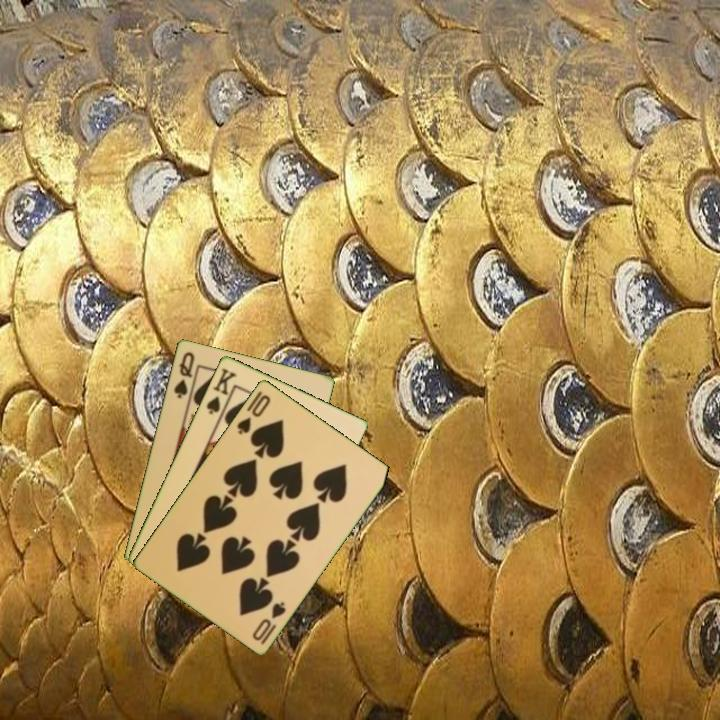10s: (249, 597, 289, 647), (233, 391, 273, 437)
Ks: (202, 364, 239, 420)
Qs: (170, 348, 197, 401)
